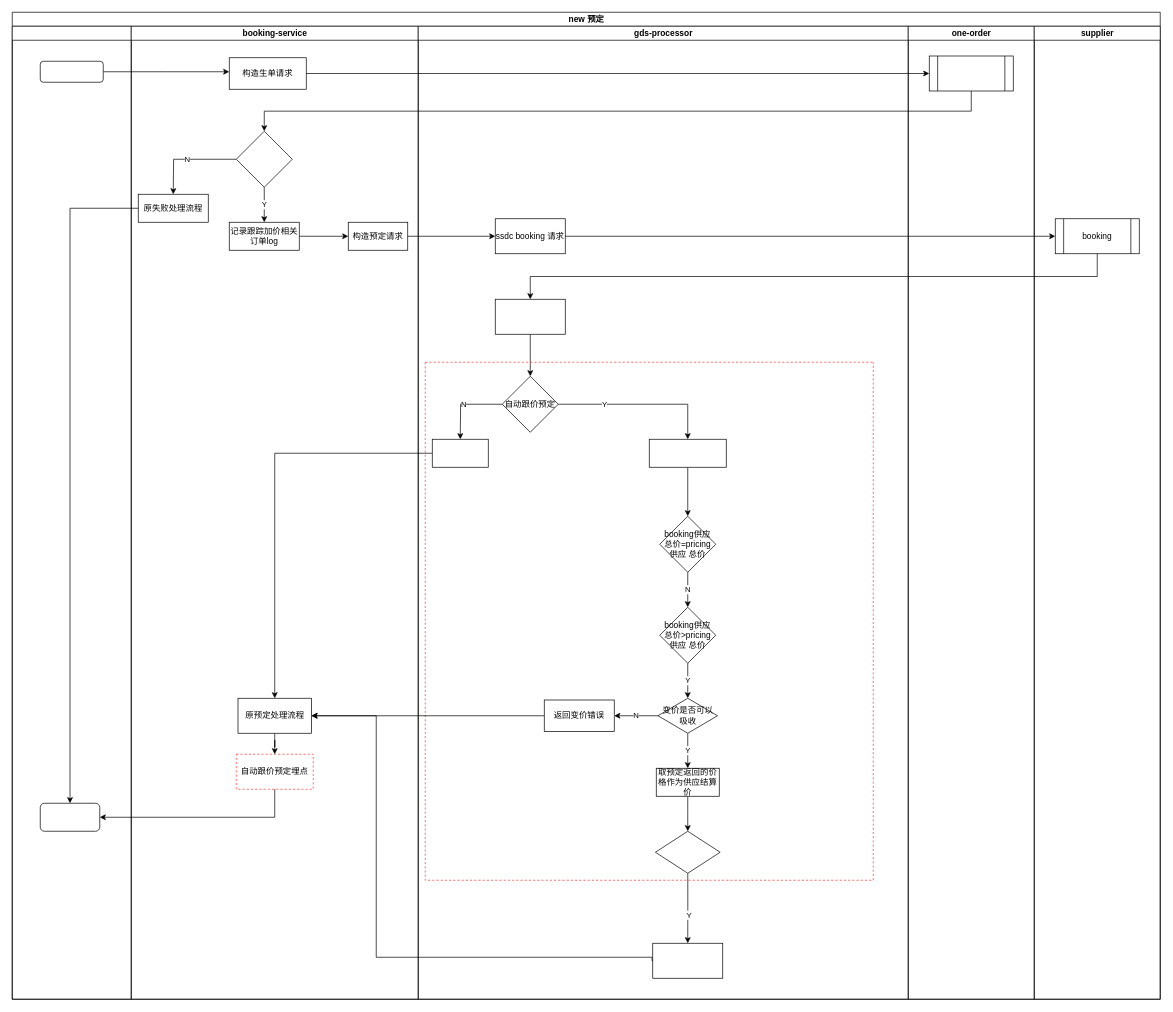
Some shapes in this 1173 by 1012 pixel diagram are drawn without their labels. Each missing label, with the box of its shape:
createOrder: (929, 55, 1013, 91)
order-provider/api-service: (12, 26, 131, 999)
乘客维度检查变价: (649, 439, 726, 467)
其他原处理流程: (652, 943, 723, 978)
原变价处理: (432, 439, 488, 467)
变价校验之前其他流程: (495, 299, 565, 334)
是否全部比较完成: (655, 831, 720, 873)
是否成功: (236, 131, 292, 187)
返回结果: (40, 803, 100, 831)
预定: (40, 61, 103, 82)
